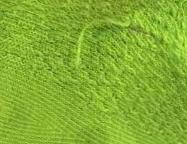snag: (74, 13, 132, 72)
